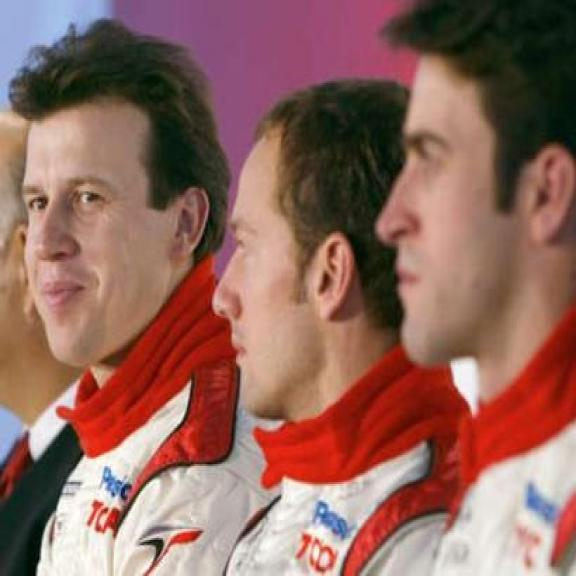face: (371, 37, 576, 370), (16, 98, 216, 368), (214, 129, 357, 423)
